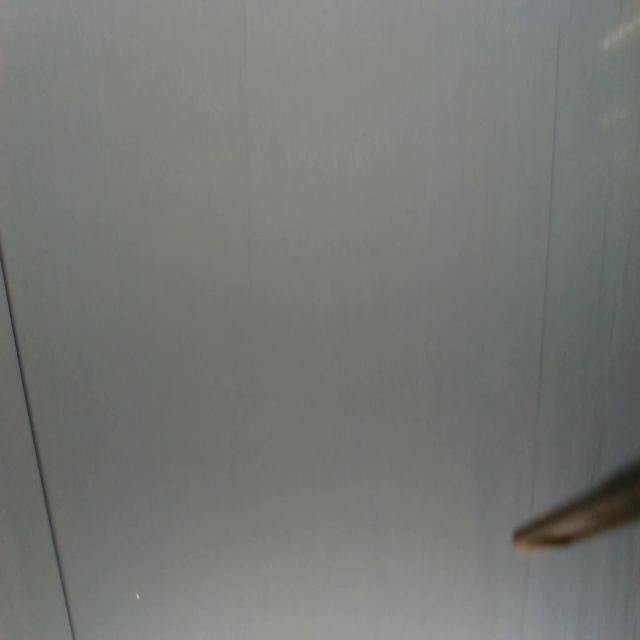crease: (0, 249, 75, 640), (532, 25, 562, 498)
hole: (134, 591, 142, 605)
